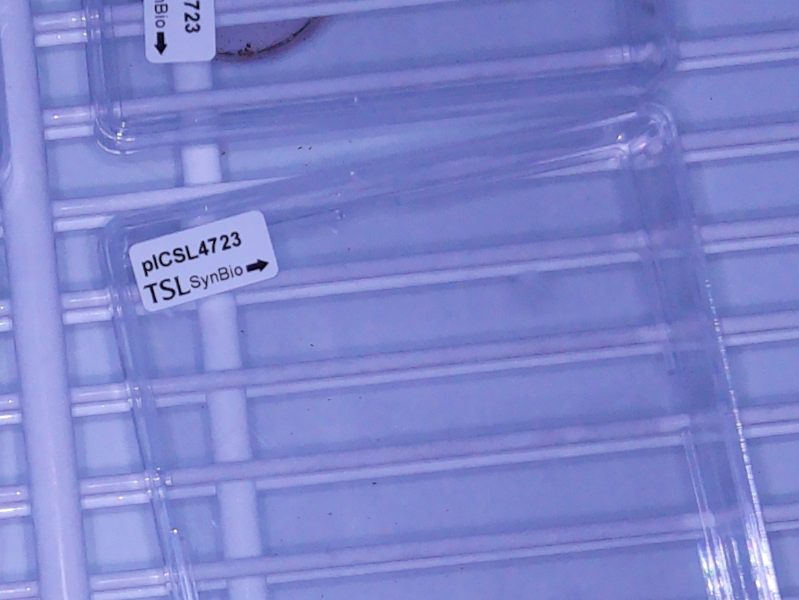plate: (96, 101, 783, 600), (82, 1, 683, 156)
